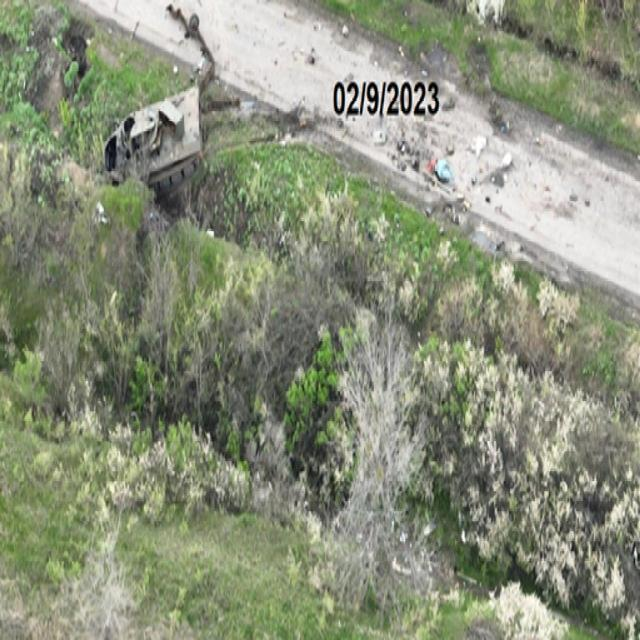APC-IFV: (96, 76, 208, 206)
